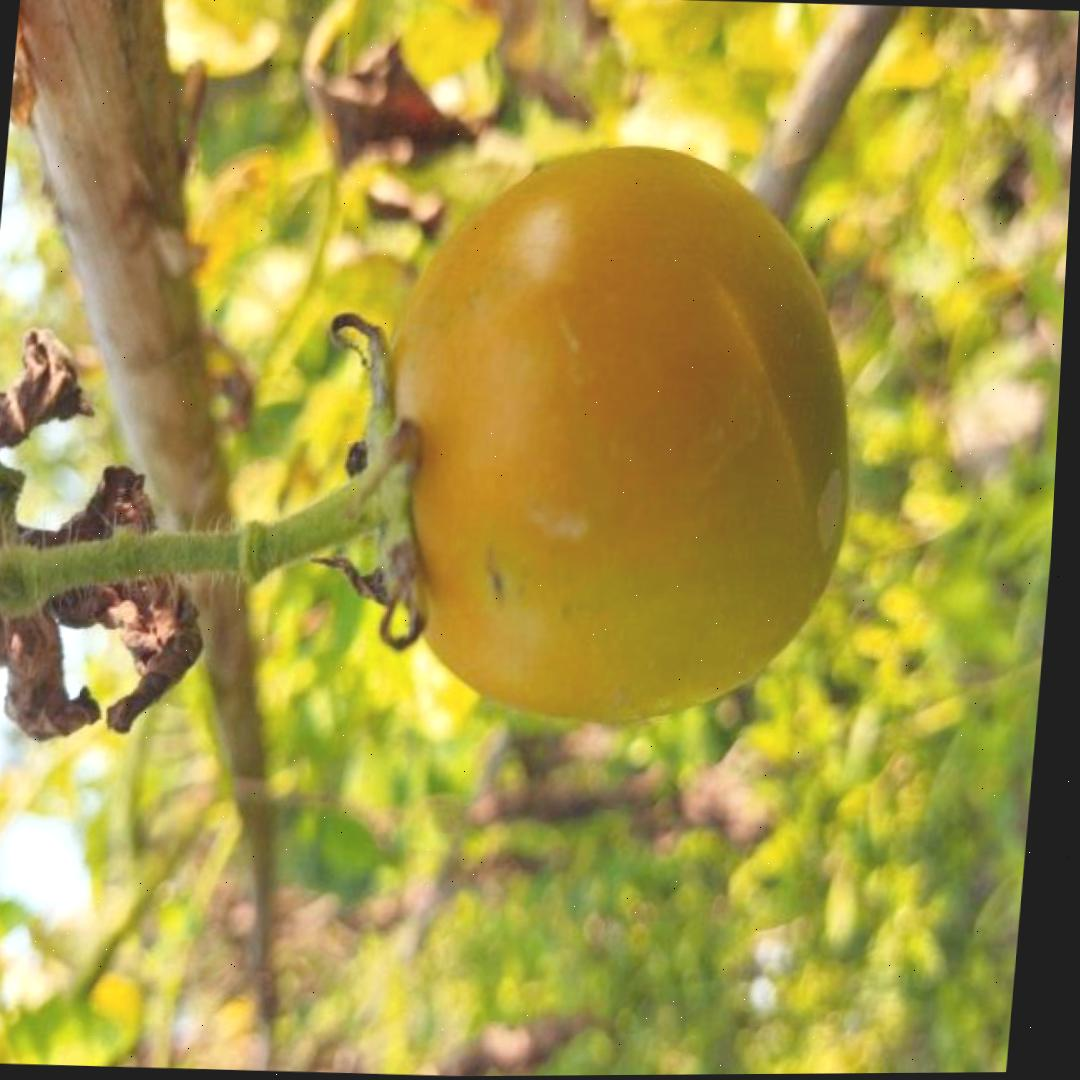setengah_matang: (342, 129, 880, 736)
